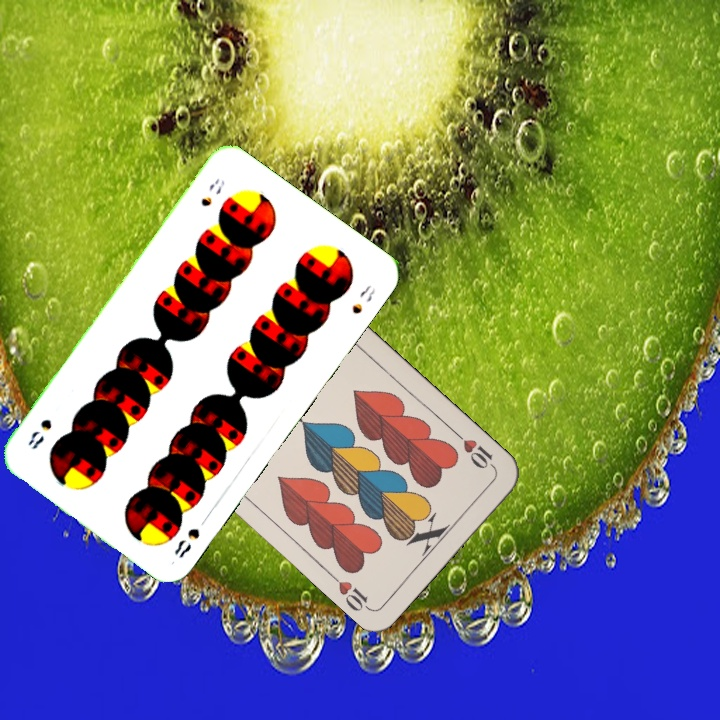H10: (450, 427, 498, 472)
S8: (170, 524, 203, 561), (196, 174, 228, 210)
